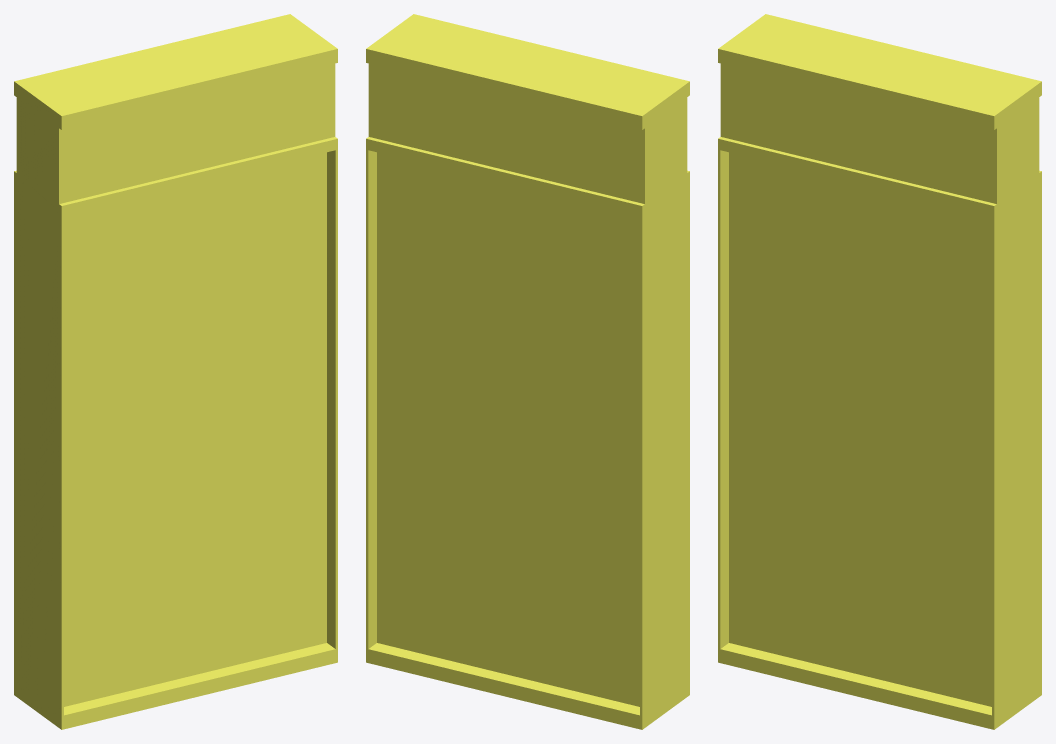
Rendered from MUR_vitre.FBX.
3 views of the same model, side by side, from view 1: azimuth 30°, elevation 25°; view 2: azimuth 150°, elevation 25°; view 3: azimuth 330°, elevation 25° (orthographic).
Visible parts, largest first — view 1: MUR_vitre_verre, MUR_vitre; view 2: MUR_vitre_verre, MUR_vitre; view 3: MUR_vitre_verre, MUR_vitre.
Boxes of the visible parts, left/top/right/bottom form: MUR_vitre_verre: left=64, top=152, right=326, bottom=706; MUR_vitre: left=14, top=14, right=337, bottom=729; MUR_vitre_verre: left=377, top=152, right=639, bottom=706; MUR_vitre: left=366, top=14, right=689, bottom=729; MUR_vitre_verre: left=729, top=152, right=991, bottom=706; MUR_vitre: left=718, top=14, right=1041, bottom=729.
Bounding box in the file's own units: 48.21 × 102 × 14.39.
